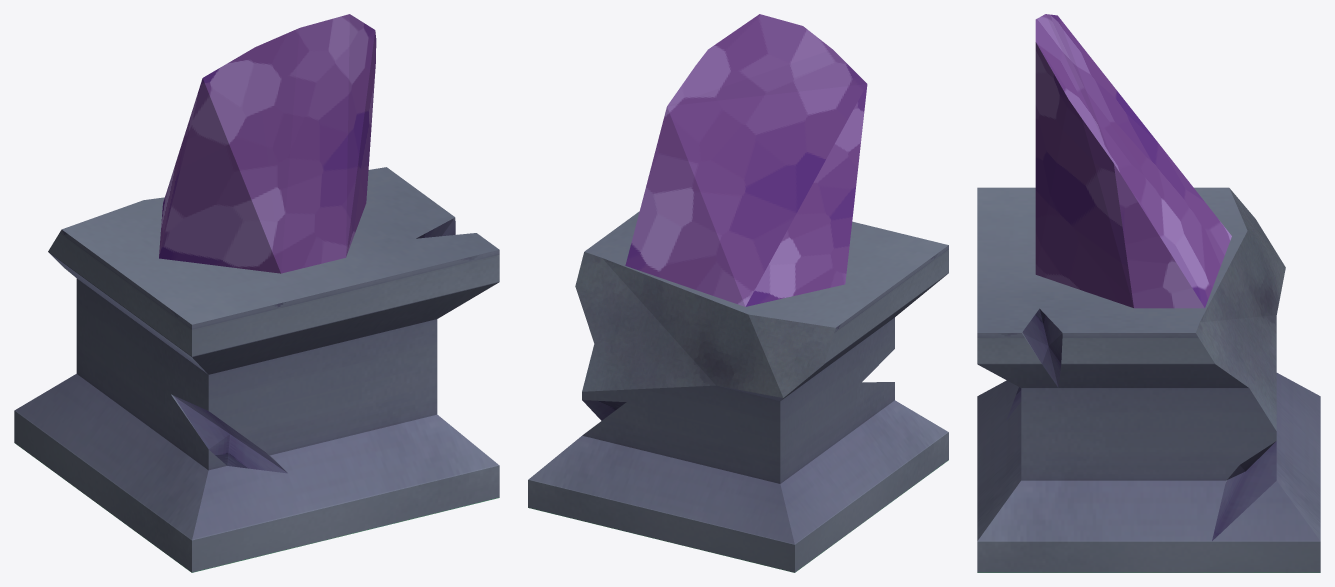
The model's file is col3.fbx.
3 renders of one model, left to right at view 1: azimuth 30°, elevation 25°; view 2: azimuth 150°, elevation 25°; view 3: azimuth 270°, elevation 25°, orthographic. The views are drawn at different scales.
Visible parts, largest first — view 1: ModularAssetsDisplay.003; view 2: ModularAssetsDisplay.003; view 3: ModularAssetsDisplay.003.
Boxes of the visible parts, box(x1,y1,x2,y2) form: ModularAssetsDisplay.003: box(14, 14, 499, 572); ModularAssetsDisplay.003: box(528, 14, 948, 572); ModularAssetsDisplay.003: box(977, 14, 1320, 572).
Size of the model in its own units: 41.01 by 62.54 by 41.01.
